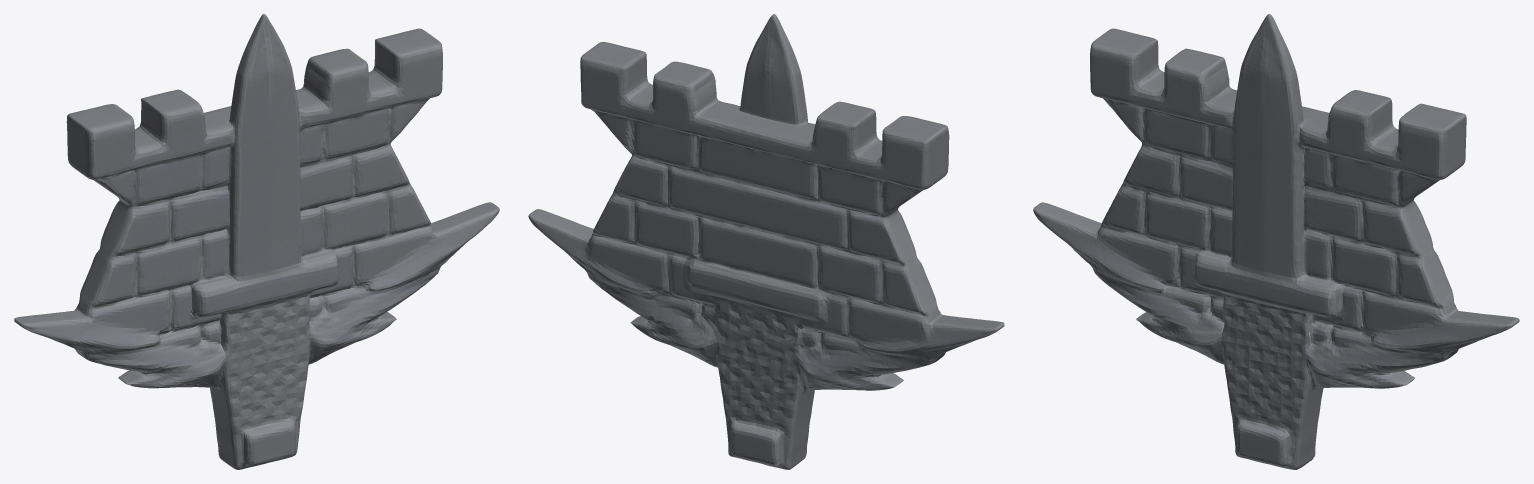
The model's file is army_arms_badge.glb.
3 renders of one model, left to right at view 1: azimuth 30°, elevation 25°; view 2: azimuth 150°, elevation 25°; view 3: azimuth 330°, elevation 25°, orthographic. The views are drawn at different scales.
Parts seen in each view (by area): view 1: accessory; view 2: accessory; view 3: accessory.
Boxes of the visible parts, bbox=[...] form: accessory: bbox=[14, 14, 499, 469]; accessory: bbox=[528, 14, 1004, 469]; accessory: bbox=[1033, 14, 1519, 469].
Bounding box in the file's own units: 0.06 × 0.0537 × 0.00694.
Materials: 1 (1 with a texture image).
